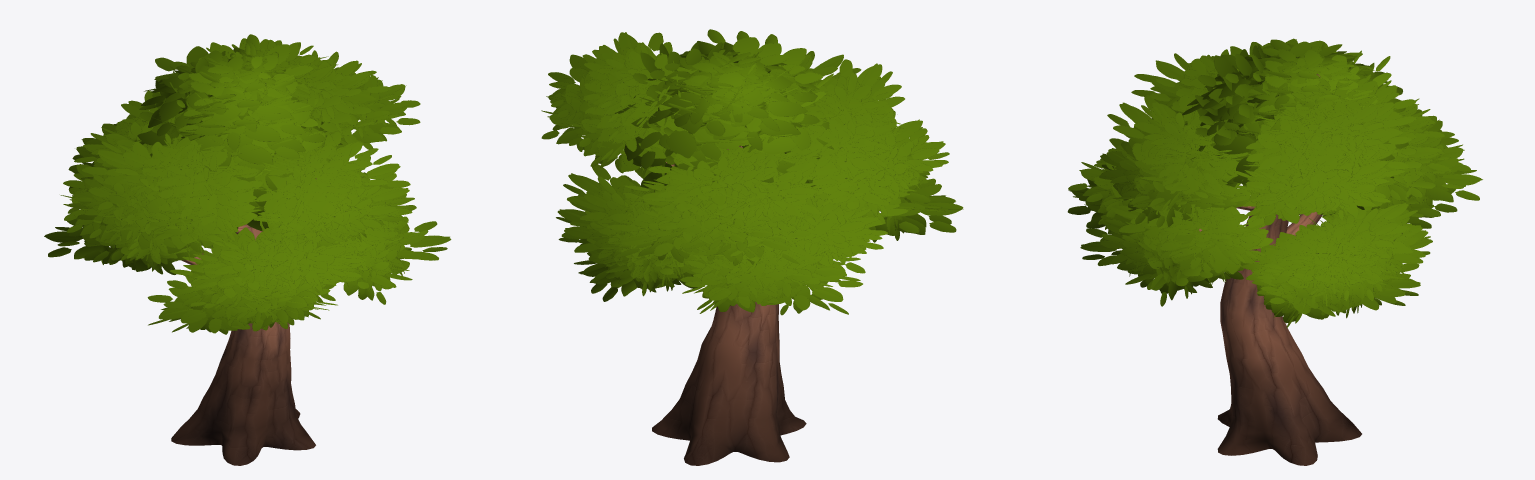
Rendered from rainforestTree.gltf.
The picture shows the model from 3 angles, left to right: view 1: azimuth 30°, elevation 25°; view 2: azimuth 150°, elevation 25°; view 3: azimuth 270°, elevation 25°; orthographic projection. The views are drawn at different scales.
Visible parts, largest first — view 1: CommonTree_1; view 2: CommonTree_1; view 3: CommonTree_1.
Boxes of the visible parts, x1,y1,x2,y2 form: CommonTree_1: (44,34,451,465); CommonTree_1: (541,29,963,465); CommonTree_1: (1067,38,1482,465).
Size of the model in its own units: 4.31 by 4 by 4.58.
Materials: 2 (2 with a texture image).
